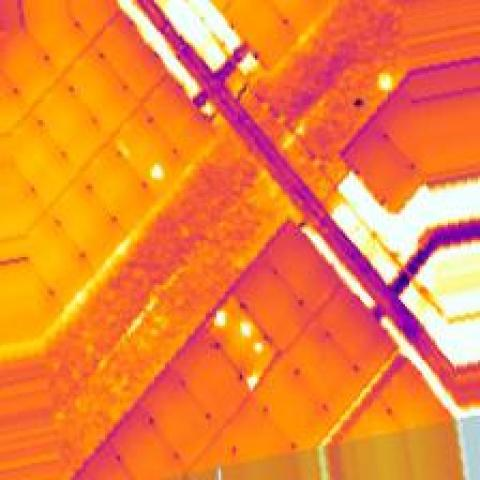fault: (240, 364, 259, 394), (144, 157, 165, 182), (210, 304, 227, 334), (375, 69, 396, 92), (236, 315, 253, 339), (250, 334, 264, 354)
